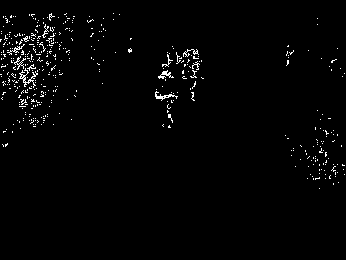person: (156, 63, 177, 128)
